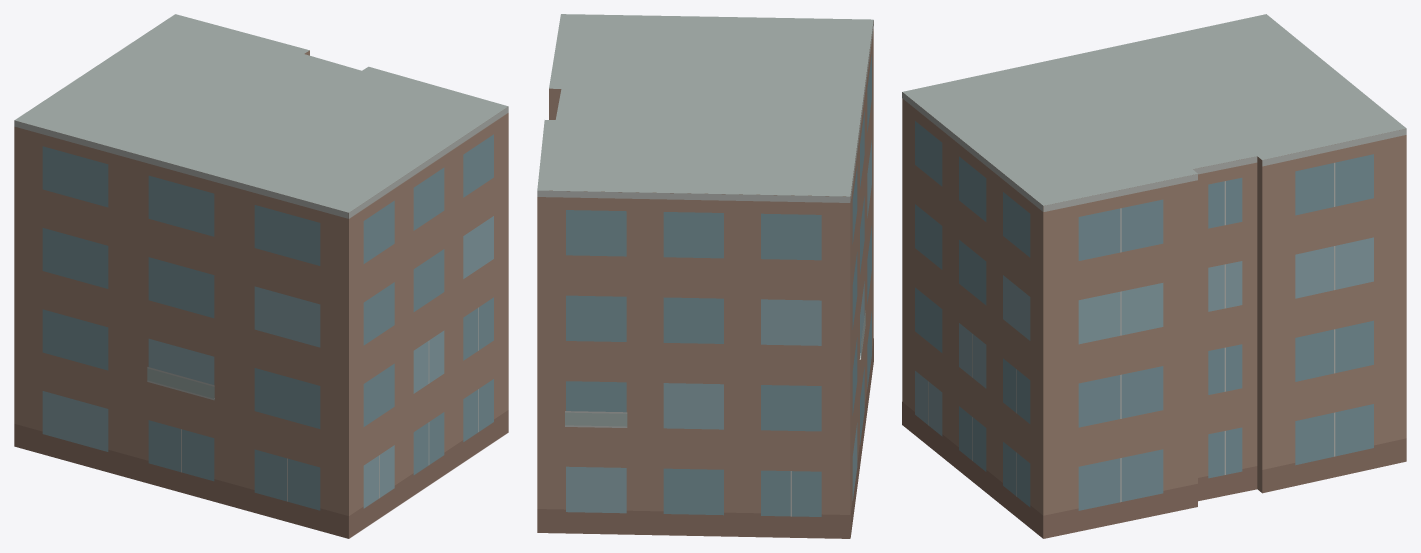
The model's file is survey-upis-32740830.glb.
3 views of the same model, side by side, from view 1: azimuth 30°, elevation 25°; view 2: azimuth 150°, elevation 25°; view 3: azimuth 270°, elevation 25° (orthographic). The views are drawn at different scales.
Parts seen in each view (by area): view 1: survey-upis-32740830.tmp; view 2: survey-upis-32740830.tmp; view 3: survey-upis-32740830.tmp.
Part boxes in pixels (x1,y1,x2,y2): survey-upis-32740830.tmp: (14,14,508,538); survey-upis-32740830.tmp: (537,14,873,538); survey-upis-32740830.tmp: (902,14,1406,538).
Size of the model in its own units: 15.89 by 12.85 by 17.65.
